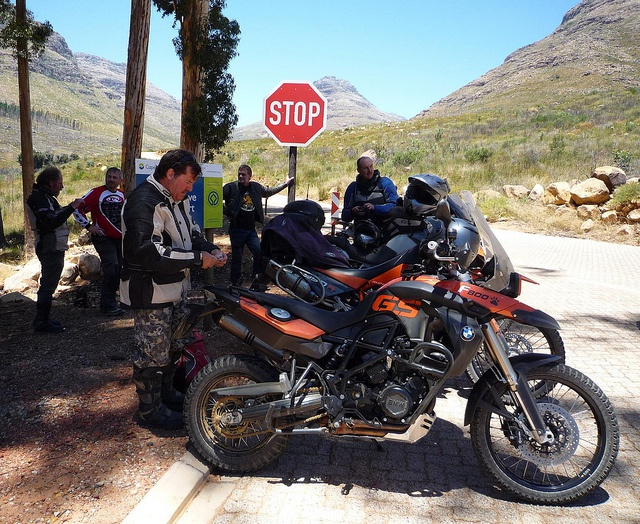non-vehicle: (176, 190, 621, 506), (242, 189, 566, 408), (279, 193, 470, 278)
